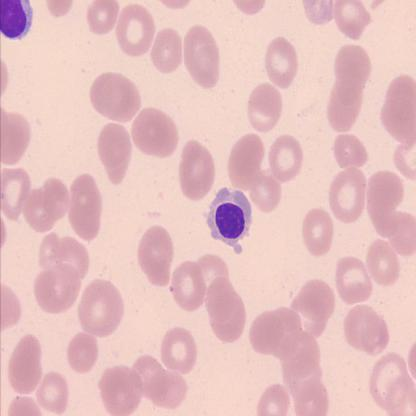NRC: (205, 183, 255, 255)
